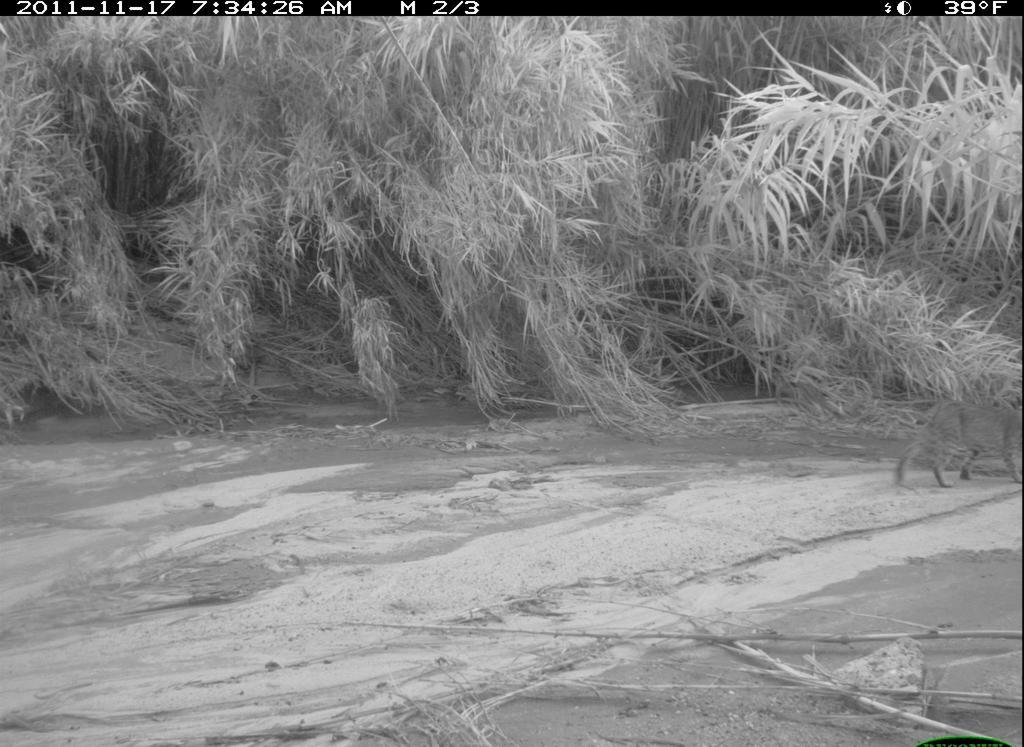bobcat: (889, 385, 1023, 497)
